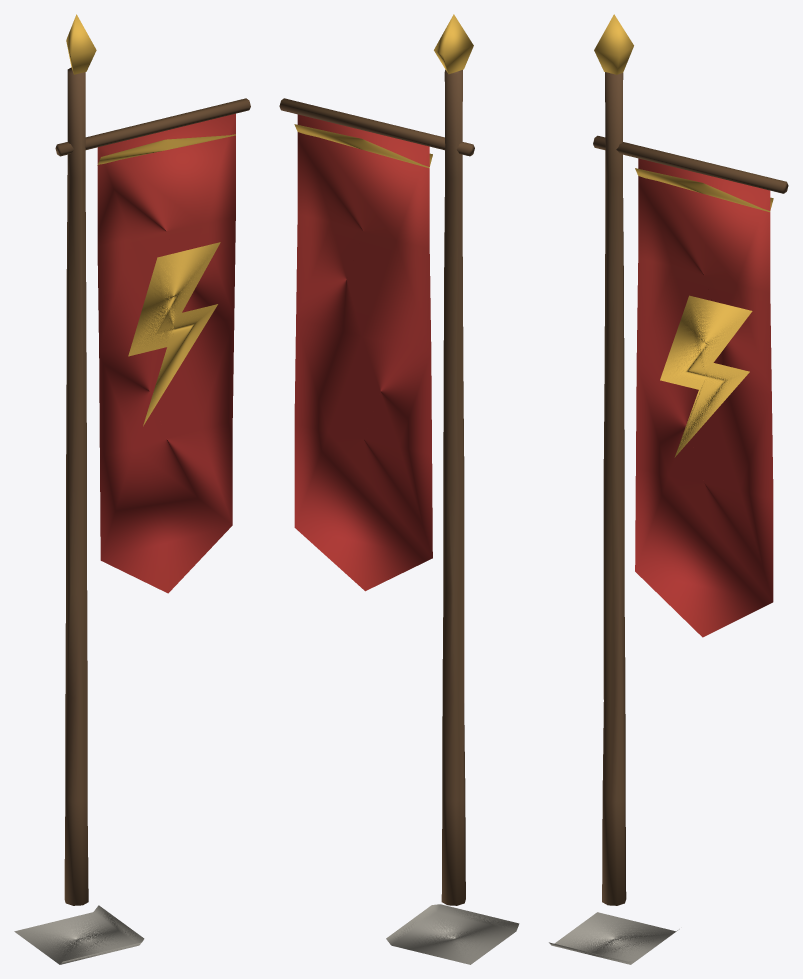
The model's file is decor_banner_t1_red.glb.
The picture shows the model from 3 angles, left to right: view 1: azimuth 30°, elevation 25°; view 2: azimuth 150°, elevation 25°; view 3: azimuth 330°, elevation 25°; orthographic projection.
Visible parts, largest first — view 1: cloth_red, wood_dark, gold, step; view 2: cloth_red, wood_dark, step, gold; view 3: cloth_red, wood_dark, gold, step.
Part boxes in pixels (x1=…): cloth_red: x1=97, y1=113, x2=235, y2=593; wood_dark: x1=55, y1=67, x2=250, y2=905; gold: x1=66, y1=14, x2=235, y2=426; step: x1=14, y1=905, x2=144, y2=964; cloth_red: x1=294, y1=114, x2=432, y2=591; wood_dark: x1=279, y1=69, x2=474, y2=905; step: x1=386, y1=904, x2=519, y2=964; gold: x1=294, y1=14, x2=473, y2=168; cloth_red: x1=635, y1=158, x2=773, y2=637; wood_dark: x1=593, y1=72, x2=788, y2=905; gold: x1=594, y1=14, x2=773, y2=457; step: x1=549, y1=912, x2=679, y2=964.
Bounding box in the file's own units: 1.18 × 4.9 × 0.47.
